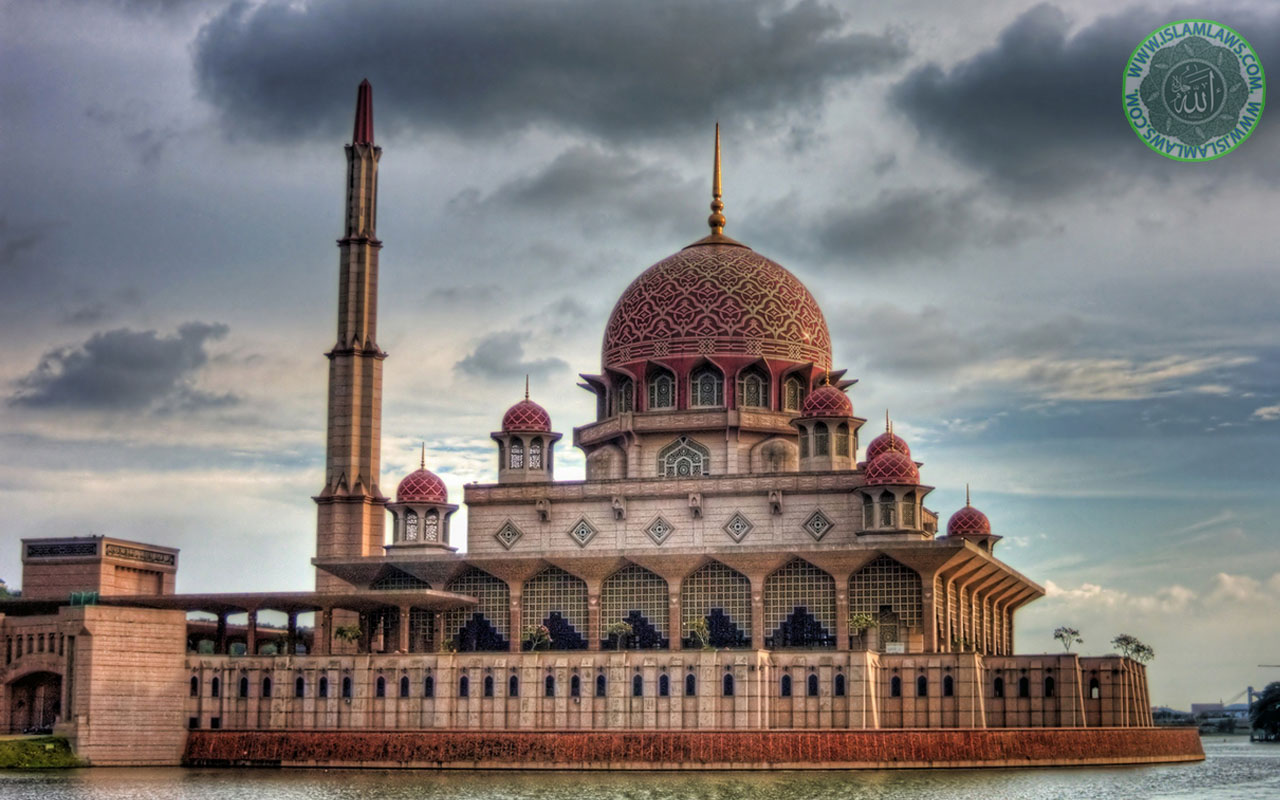Mosque: (176, 60, 1012, 710)
